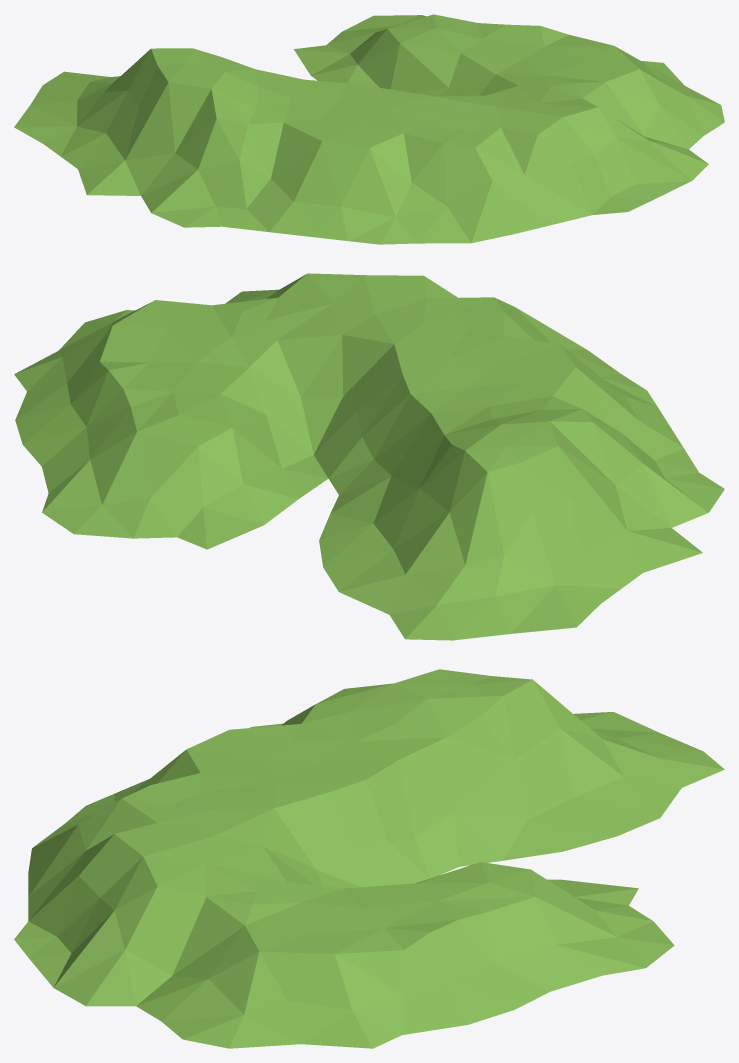
File: MT_Mountain_M_b_19.fbx
3 renders of one model, top to bottom at view 1: azimuth 30°, elevation 25°; view 2: azimuth 150°, elevation 25°; view 3: azimuth 270°, elevation 25°, orthographic. The views are drawn at different scales.
Parts seen in each view (by area): view 1: MT_Mountain_M_b_19; view 2: MT_Mountain_M_b_19; view 3: MT_Mountain_M_b_19.
Part boxes in pixels (x1,y1,x2,y2): MT_Mountain_M_b_19: [14, 14, 724, 244]; MT_Mountain_M_b_19: [14, 273, 724, 640]; MT_Mountain_M_b_19: [14, 669, 724, 1048].
Size of the model in its own units: 4453 by 593 by 3867.
